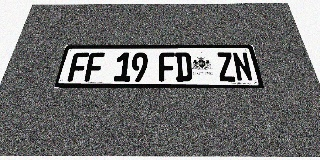1: (114, 52, 132, 82)
9: (131, 52, 148, 82)
D: (175, 52, 193, 81)
F: (67, 53, 89, 82), (84, 52, 105, 82), (159, 52, 175, 82)
N: (232, 52, 254, 81)
Z: (216, 52, 237, 81)
